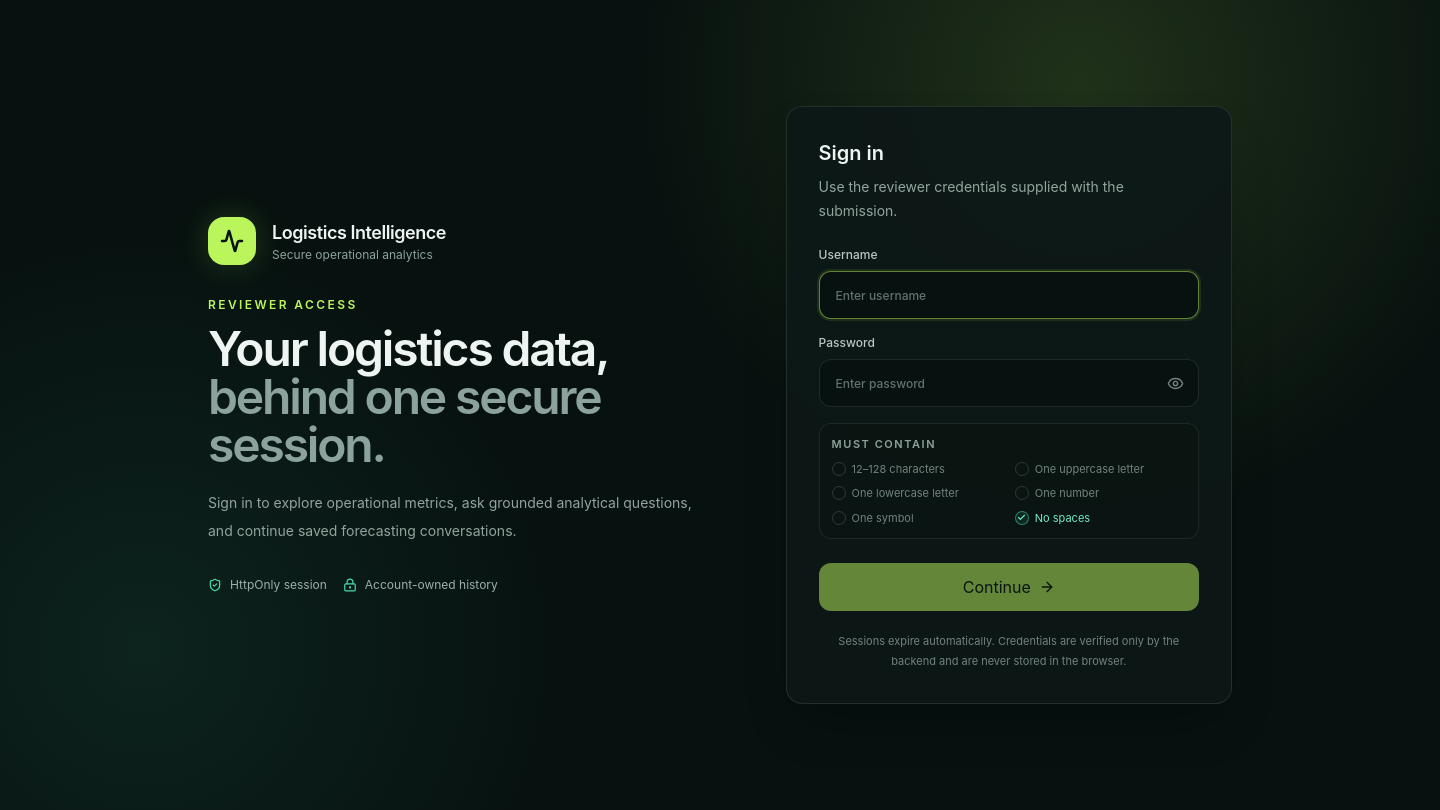
LoginScreen › shows password requirements and enables submit only when they pass
Expected: the text "Must contain" is shown, [832, 437, 936, 451]
Expected: the list item "12–128 characters" is shown, [832, 462, 945, 476]
Type "reviewer" into the field labelled "Username".
click(1009, 295); type("reviewer")  # box [819, 271, 1199, 319]
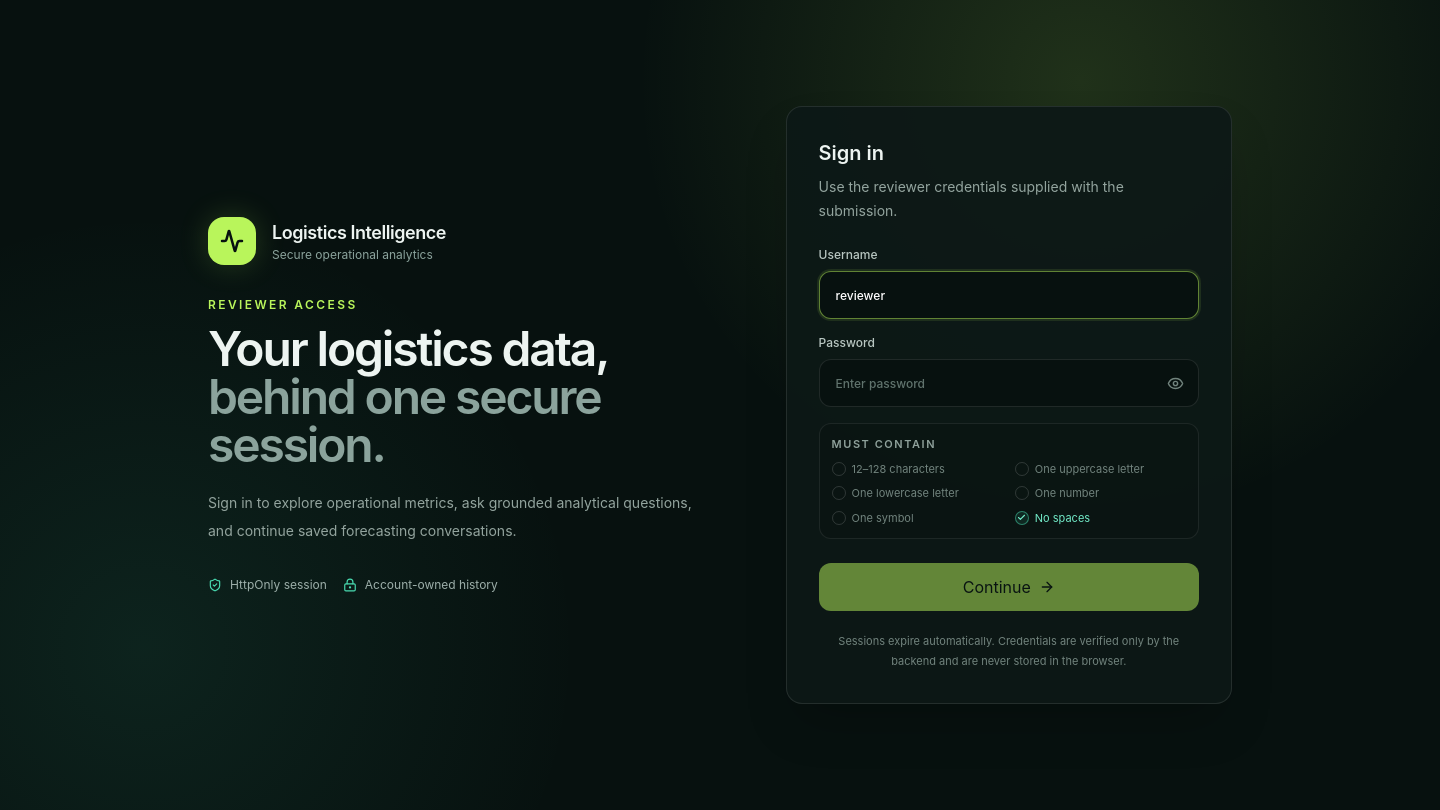
Type "weak" into the password field labelled "Password".
click(1009, 383); type("weak")  # box [819, 359, 1199, 407]
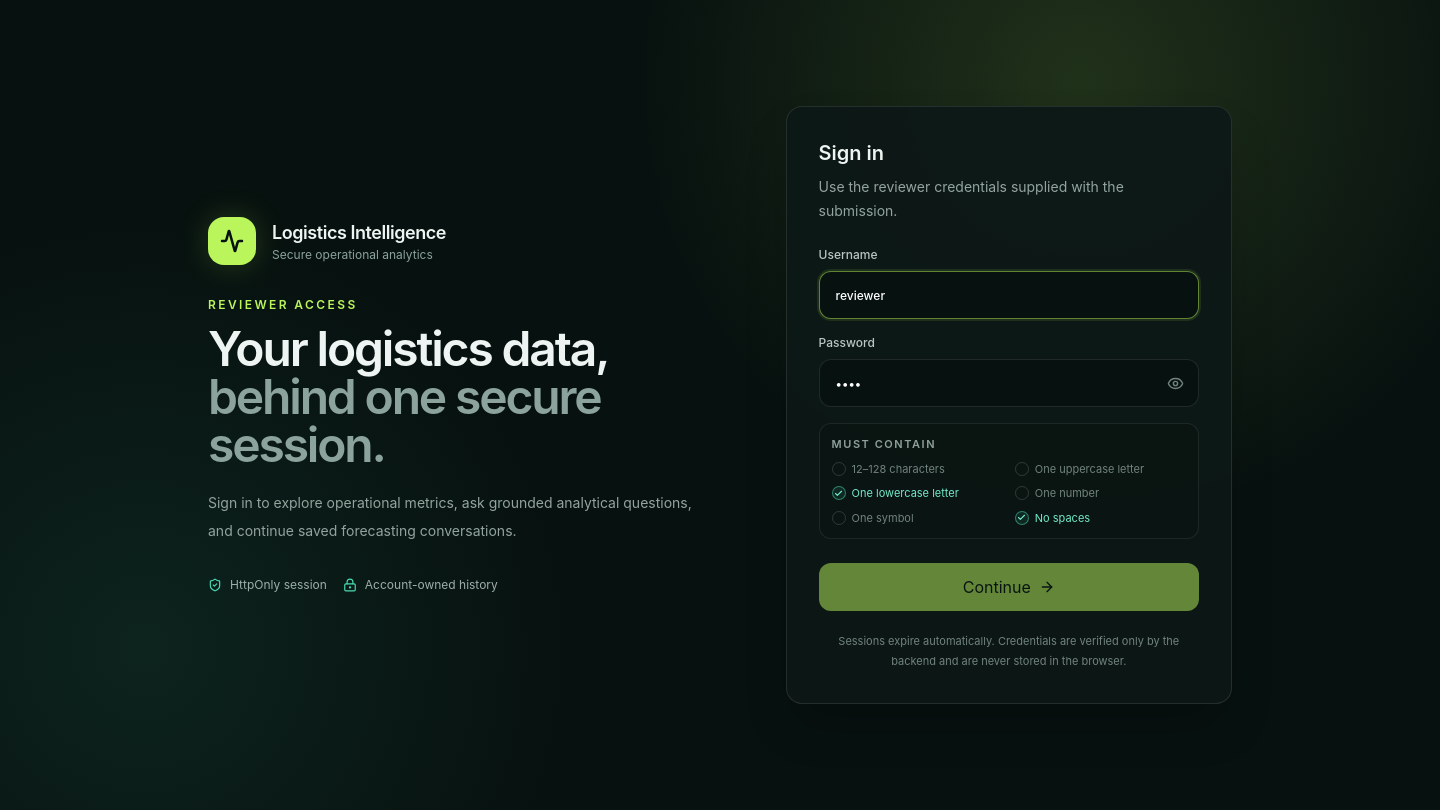
Expected: the button "Continue" is disabled, [819, 563, 1199, 611]
Type "Correct-Password9!" into the password field labelled "Password".
click(1009, 383); type("Correct-Password9!")  # box [819, 359, 1199, 407]
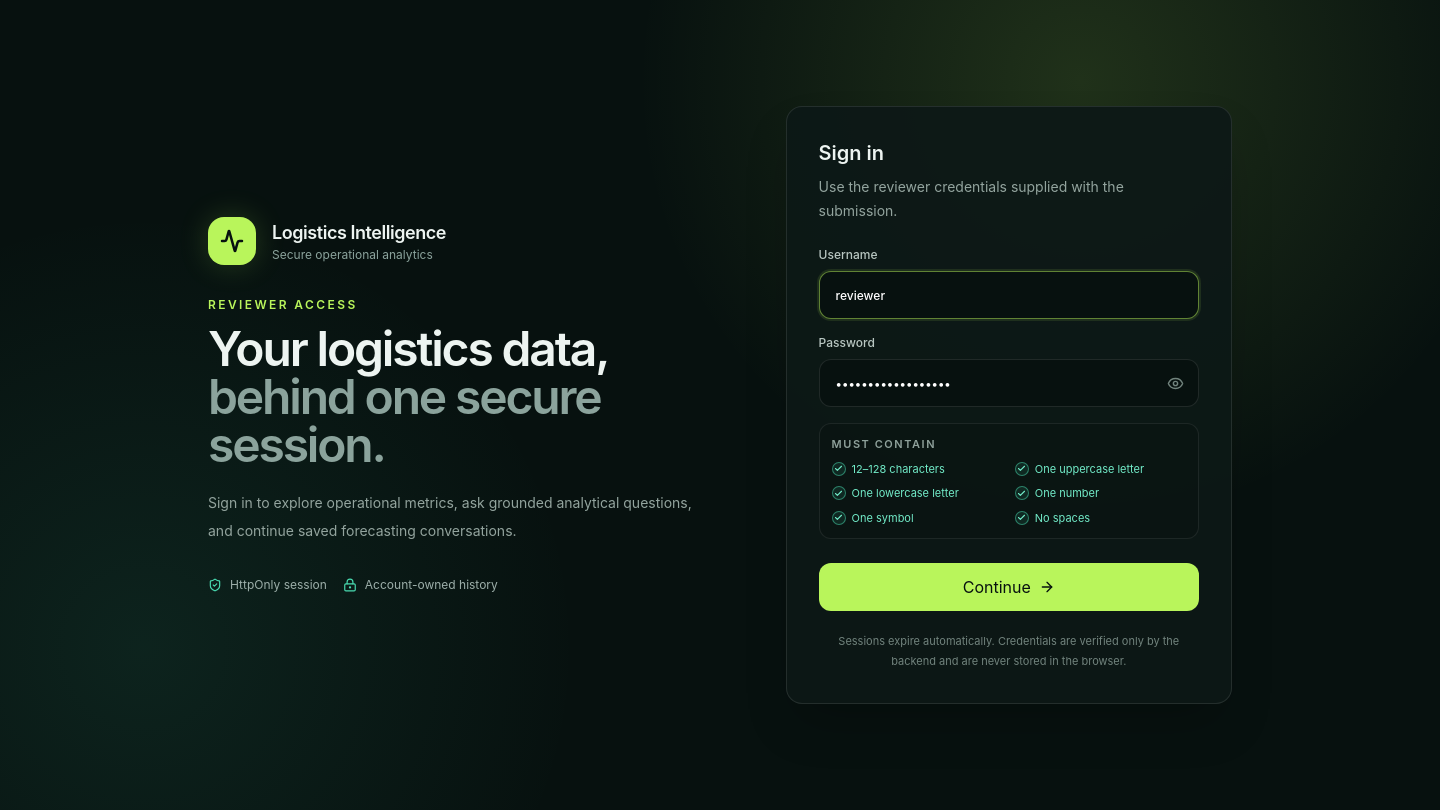
Expected: the button "Continue" is enabled, [819, 563, 1199, 611]
